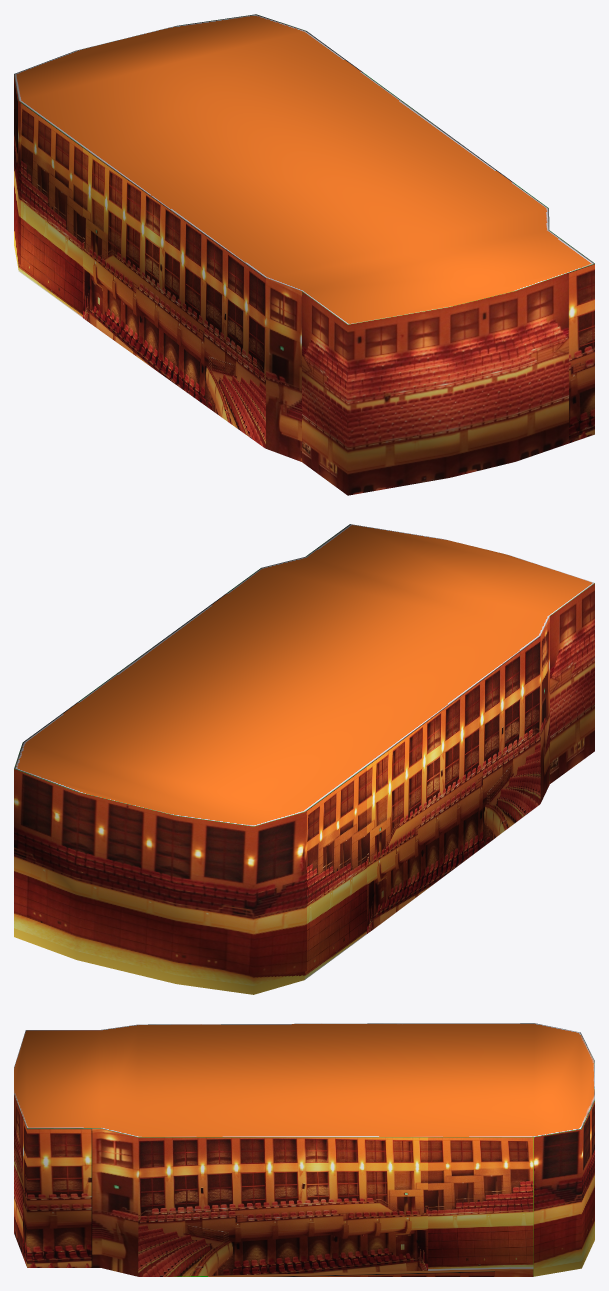
The model's file is auditorium.fbx.
3 views of the same model, one above another, from view 1: azimuth 30°, elevation 25°; view 2: azimuth 150°, elevation 25°; view 3: azimuth 270°, elevation 25° (orthographic). The views are drawn at different scales.
Visible parts, largest first — view 1: Plane; view 2: Plane; view 3: Plane.
Part boxes in pixels (x1=…): Plane: x1=14, y1=14, x2=594, y2=495; Plane: x1=14, y1=524, x2=594, y2=994; Plane: x1=14, y1=1023, x2=594, y2=1276.
Size of the model in its own units: 8.67 by 4.93 by 18.64.
1 material, 1 textured.
